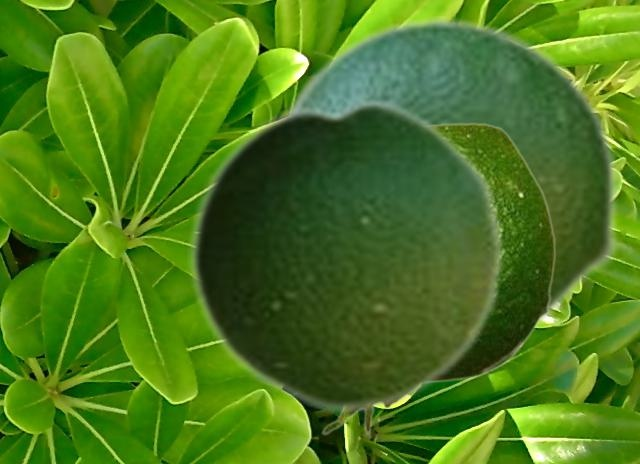dalandan: (278, 16, 619, 335), (187, 94, 505, 416), (320, 122, 555, 435)
